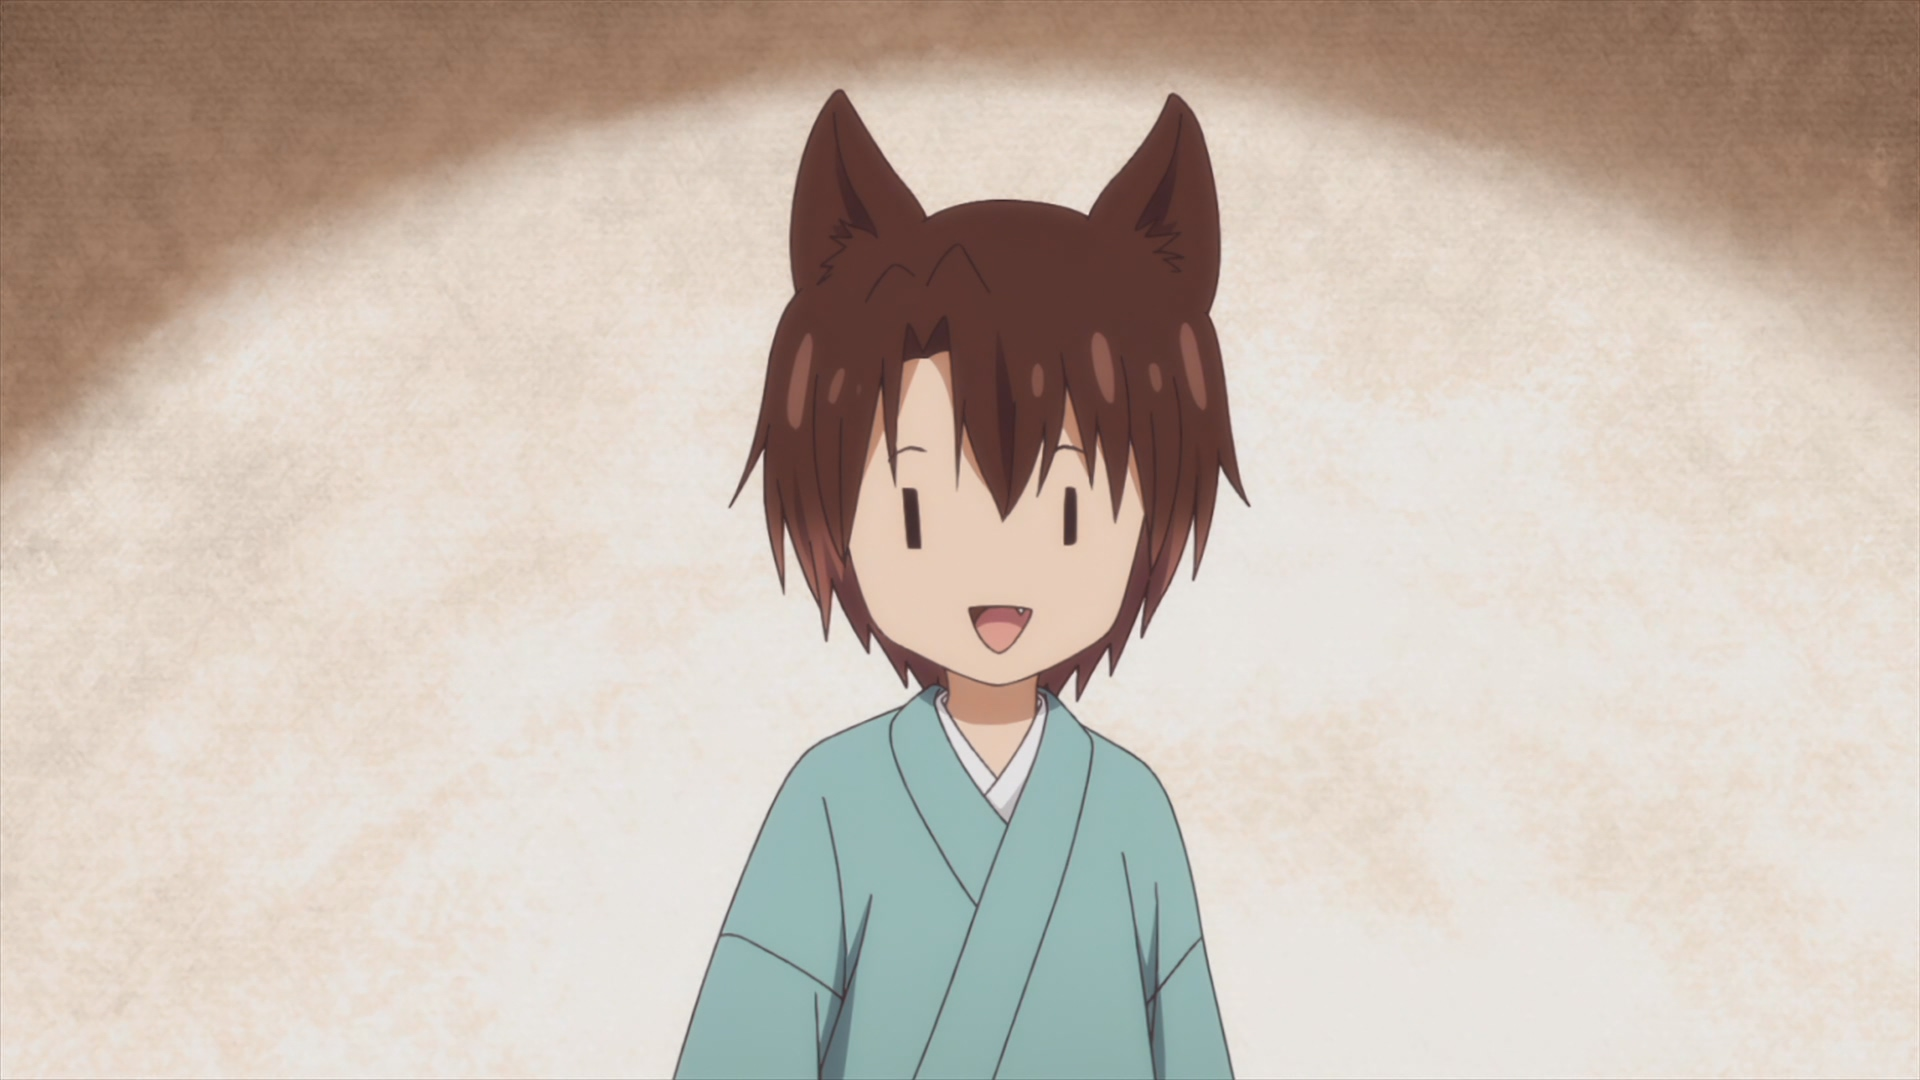枣: (673, 88, 1249, 1080)
